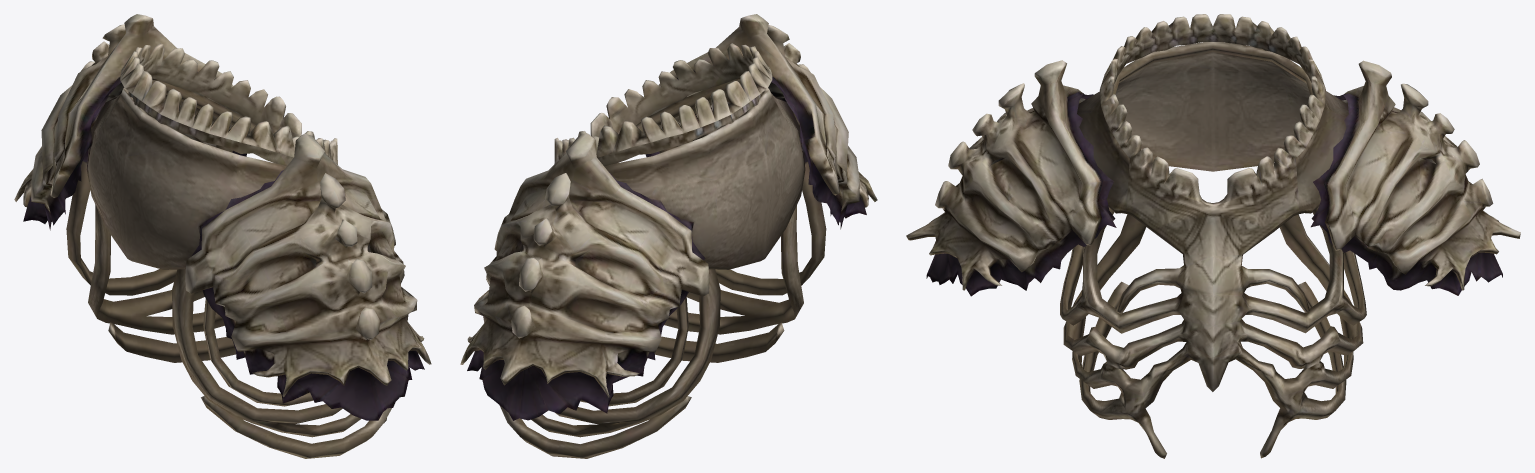
File: necro_mantle_ossuary.glb
3 renders of one model, left to right at view 1: azimuth 30°, elevation 25°; view 2: azimuth 150°, elevation 25°; view 3: azimuth 270°, elevation 25°, orthographic. The views are drawn at different scales.
Parts seen in each view (by area): view 1: tripo_node_7fb8e633-13df-4ca1-b0ef-64b4818d31dc; view 2: tripo_node_7fb8e633-13df-4ca1-b0ef-64b4818d31dc; view 3: tripo_node_7fb8e633-13df-4ca1-b0ef-64b4818d31dc.
Part boxes in pixels (x1=…): tripo_node_7fb8e633-13df-4ca1-b0ef-64b4818d31dc: x1=14, y1=14, x2=431, y2=458; tripo_node_7fb8e633-13df-4ca1-b0ef-64b4818d31dc: x1=460, y1=14, x2=877, y2=458; tripo_node_7fb8e633-13df-4ca1-b0ef-64b4818d31dc: x1=906, y1=14, x2=1520, y2=458.
Bounding box in the file's own units: 0.4277 × 0.6348 × 0.998.
Materials: 1 (1 with a texture image).
